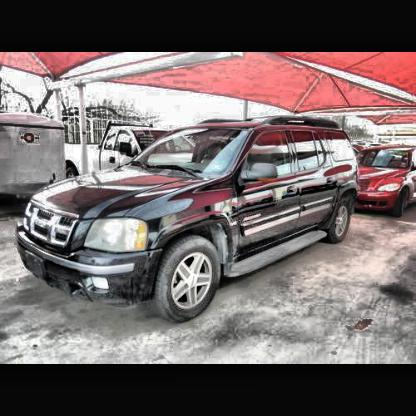Isuzu Ascender SUV 2008: (16, 115, 364, 327)
